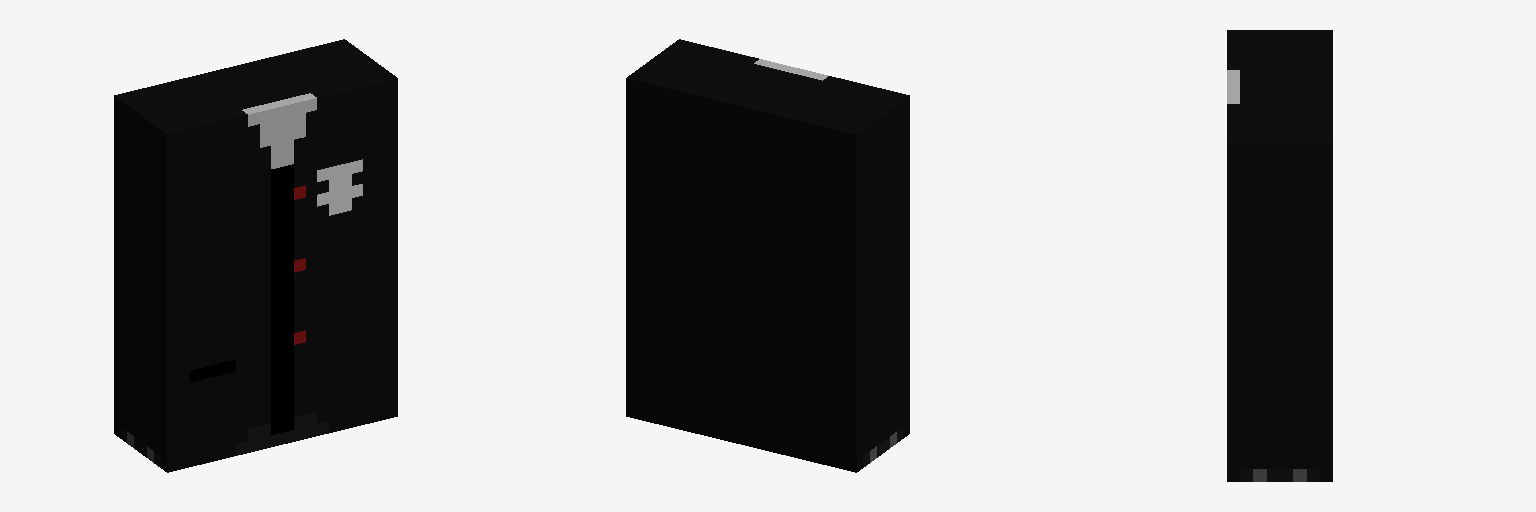
The picture shows the model from 3 angles: view 1: azimuth 30°, elevation 25°; view 2: azimuth 150°, elevation 25°; view 3: azimuth 270°, elevation 25°; orthographic projection.
Visible parts, largest first — view 1: torso; view 2: torso; view 3: torso.
Part boxes in pixels (bbox=[...]): torso: bbox=[114, 39, 397, 472]; torso: bbox=[626, 39, 909, 472]; torso: bbox=[1227, 30, 1332, 481].
Size of the model in its own units: 2 by 2.8 by 0.8.
Materials: 1 (1 with a texture image).